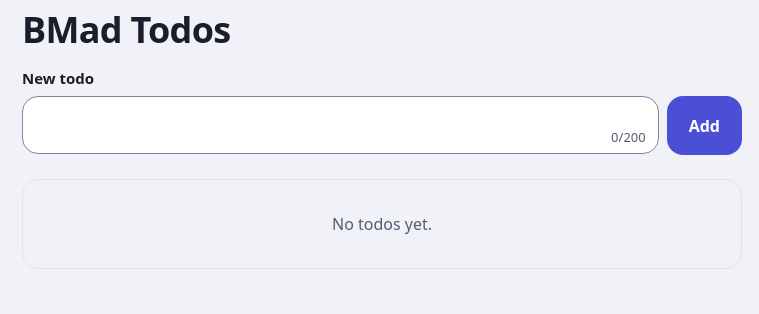
Scenario: AddForm validation › K1 refuses an empty submit by Enter inline and sends nothing
The image size is (759, 314).
Step 1. Click the text box labelled "New todo" → (340, 113), box [23,97,658,129]
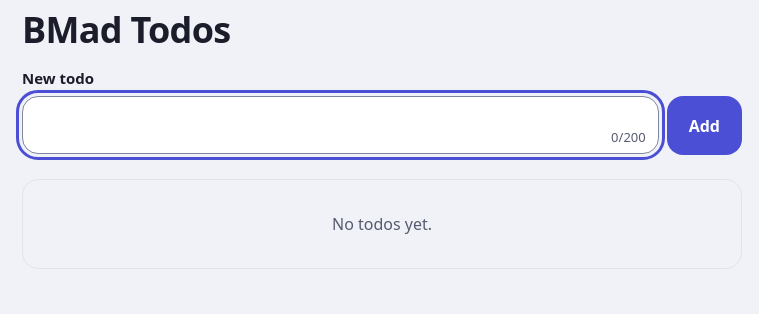
Step 2. Press Enter
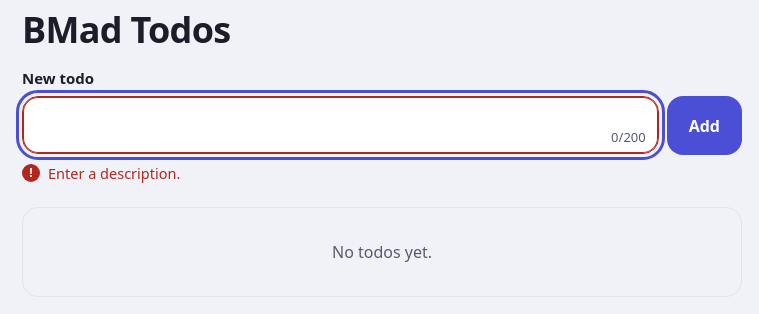
Now the text "Enter a description." is shown, box [48,163,180,183]
